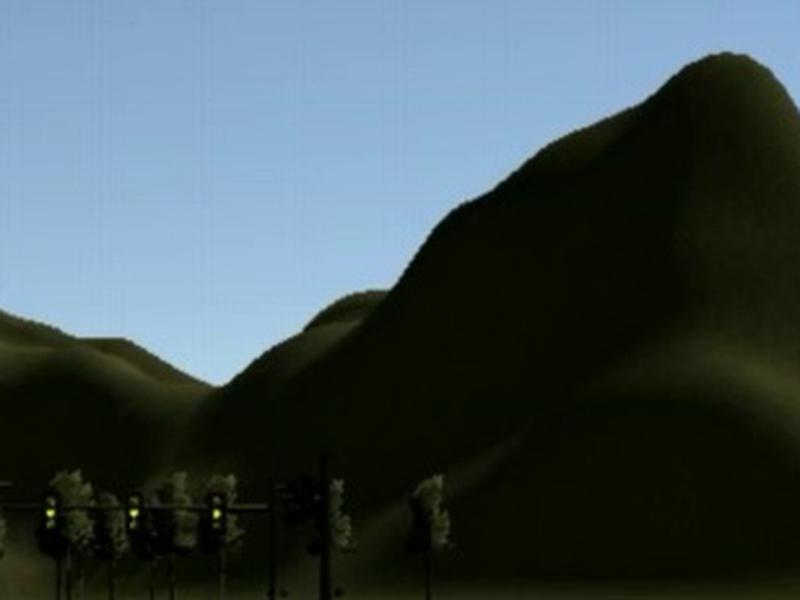Yellow: (41, 488, 62, 536), (207, 491, 226, 537), (126, 491, 143, 537)
